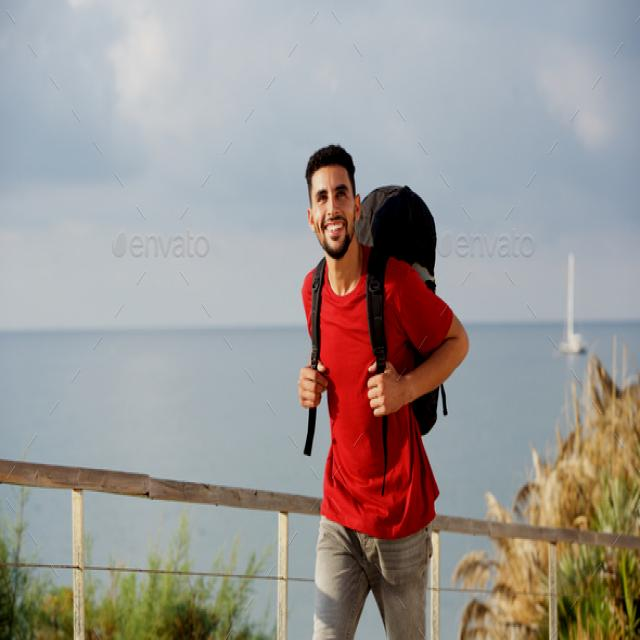backpack: (304, 185, 445, 493)
